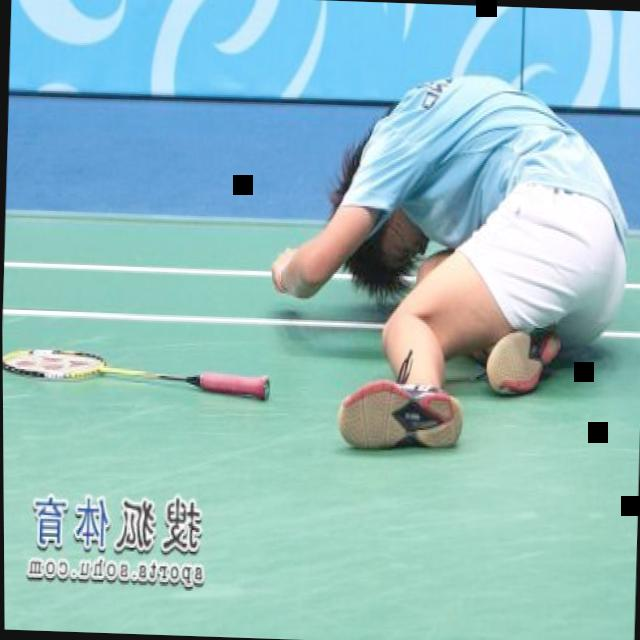Fall-Detected: (271, 56, 637, 466)
